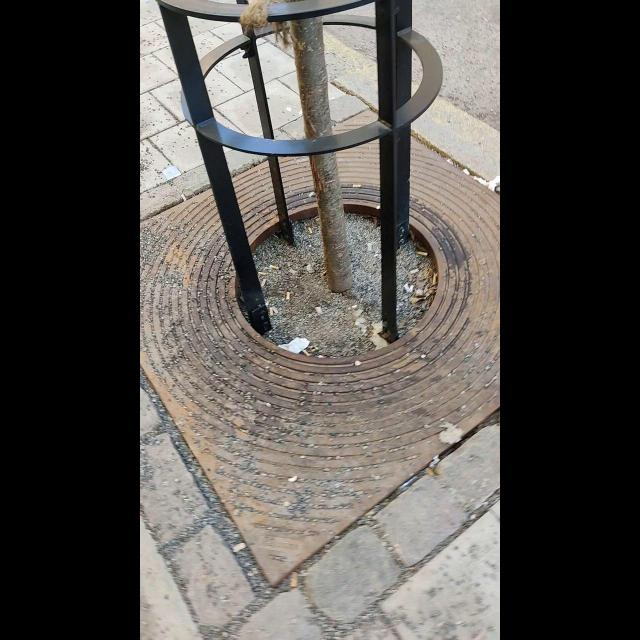cigarette: (288, 572, 298, 588), (234, 543, 248, 554), (269, 264, 280, 271), (419, 250, 428, 257), (316, 303, 322, 313), (302, 350, 310, 357), (286, 290, 291, 301), (410, 269, 418, 274), (352, 184, 361, 188), (258, 271, 267, 275), (270, 306, 274, 314), (309, 227, 312, 234)
